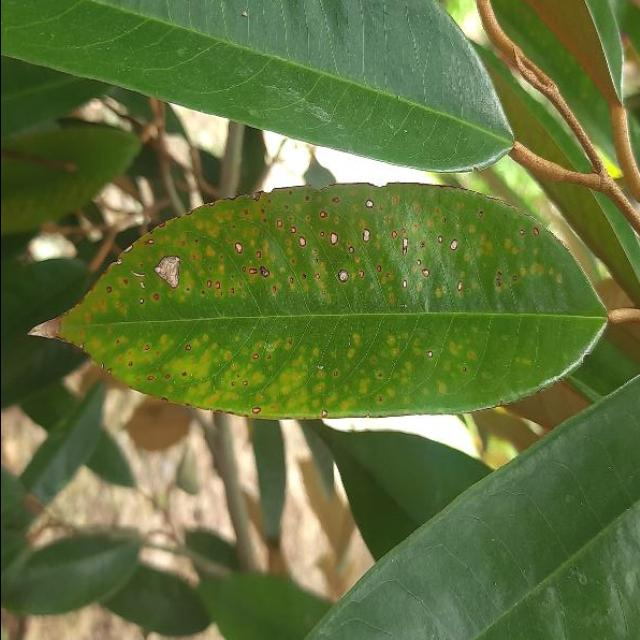Leaf Spot: (22, 170, 620, 432)
